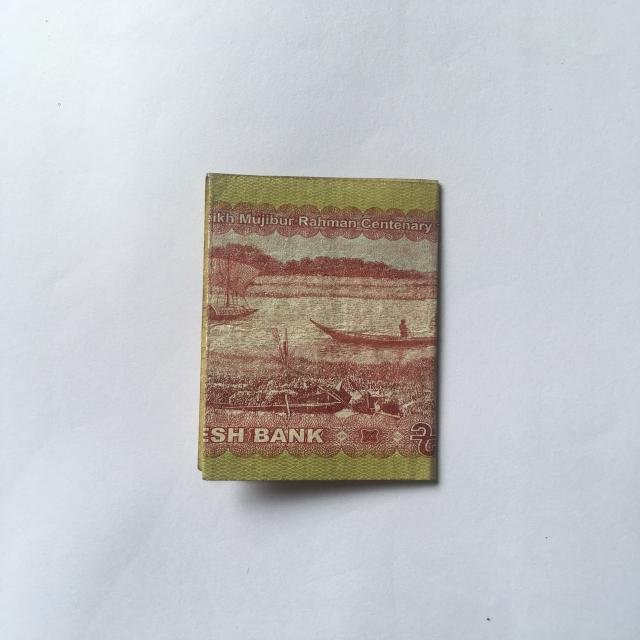Taka: (197, 169, 452, 487)
